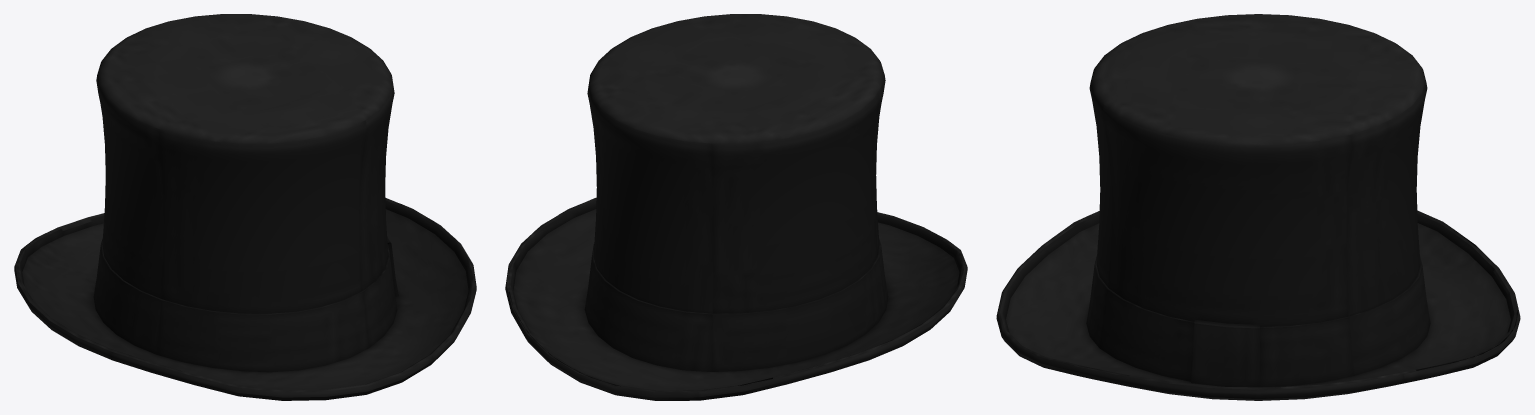
File: hat_top.gltf
The picture shows the model from 3 angles, left to right: view 1: azimuth 30°, elevation 25°; view 2: azimuth 150°, elevation 25°; view 3: azimuth 270°, elevation 25°; orthographic projection. The views are drawn at different scales.
Visible parts, largest first — view 1: hat_top; view 2: hat_top; view 3: hat_top.
Part boxes in pixels (x1,y1,x2,y2): hat_top: (14, 14, 476, 400); hat_top: (505, 14, 967, 400); hat_top: (996, 14, 1520, 400).
Bounding box in the file's own units: 1 × 0.5775 × 1.08.
Materials: 1 (1 with a texture image).
